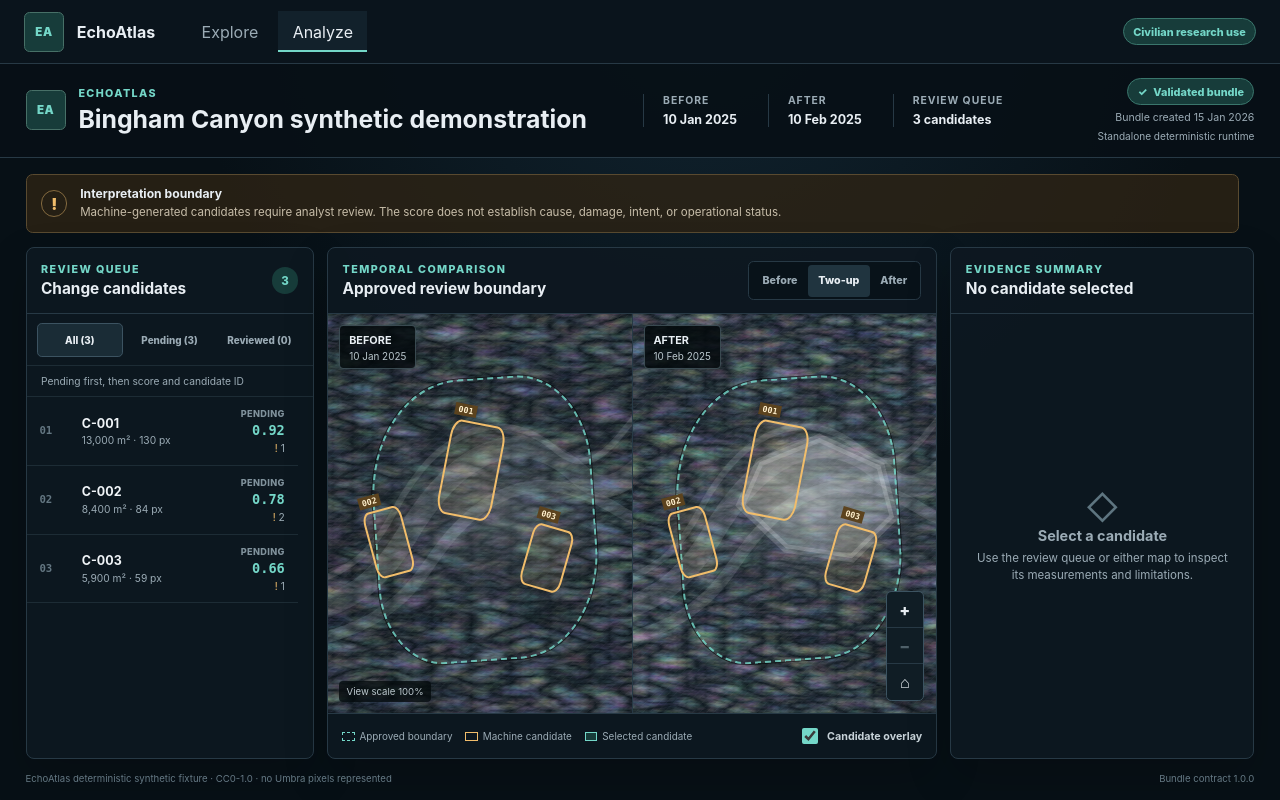
Test: App › keeps queue and map selection synchronized
Click the button "01 C-001 13,000 m² · 130 px Pending 0.92 ! 1" at (162,431), box [27,397,298,466]
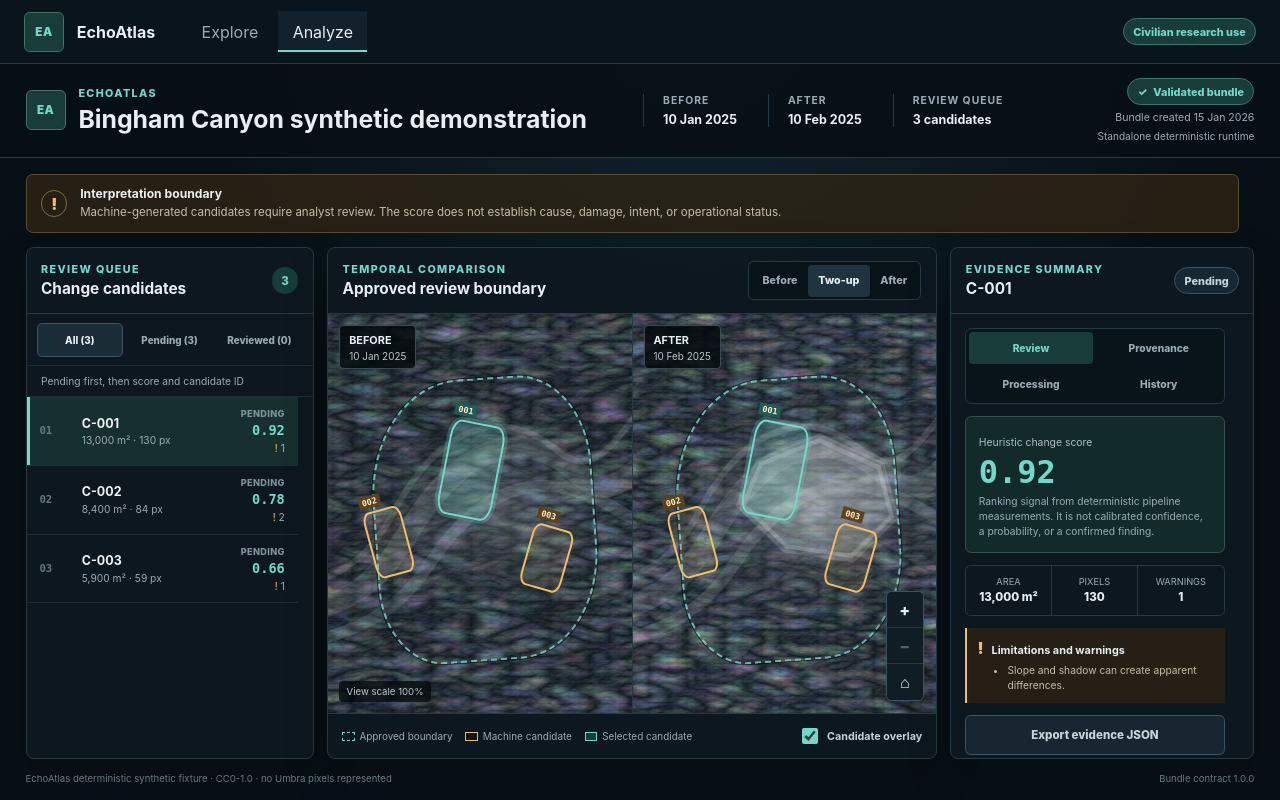
Expected: the heading "C-001" is shown, [966,279,1012,298]
Click the button named "Select candidate C-002 on Before map" at (389,542), box [361,504,417,579]
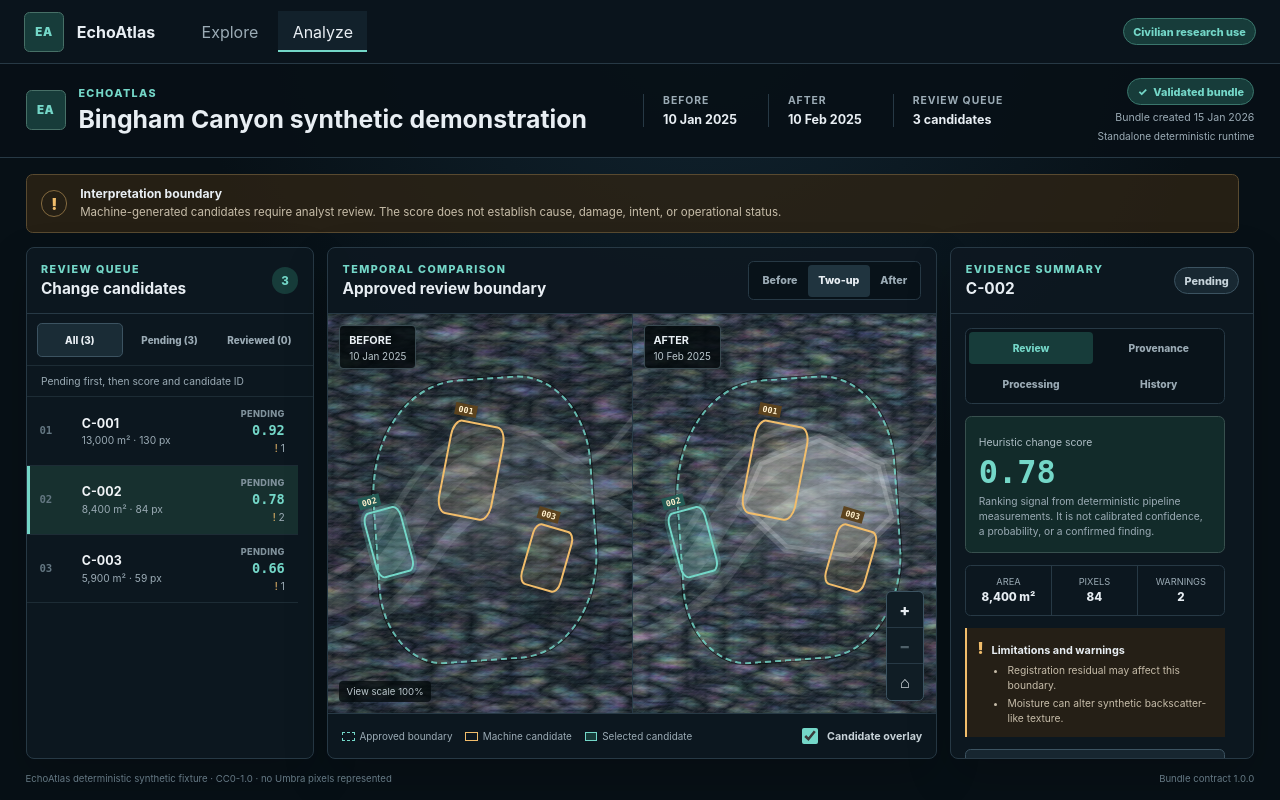
Expected: the heading "C-002" is shown, [966,279,1015,298]
